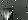person: (4, 9, 14, 20)
